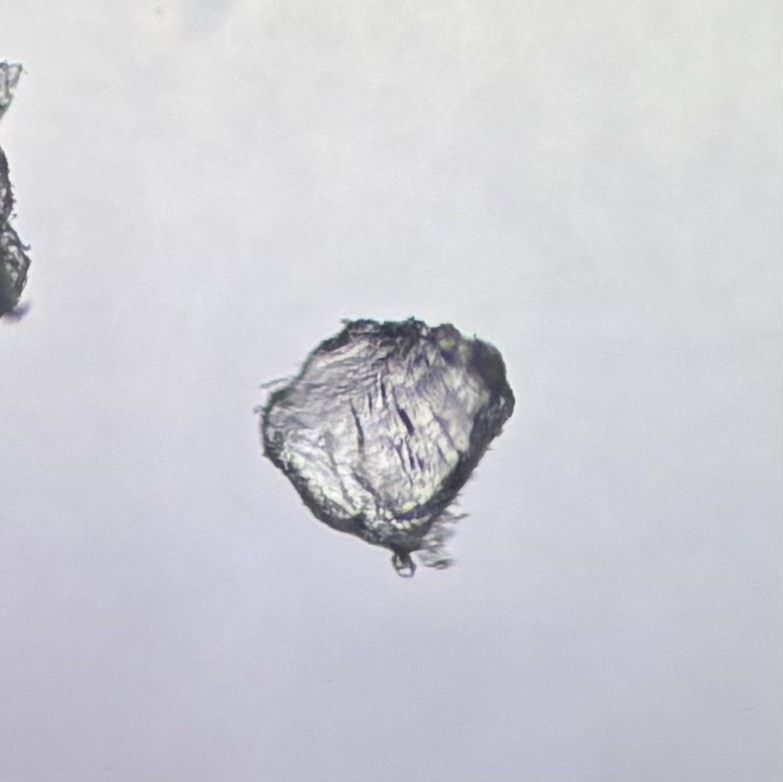microplastic: (249, 311, 523, 586), (1, 61, 43, 329)
